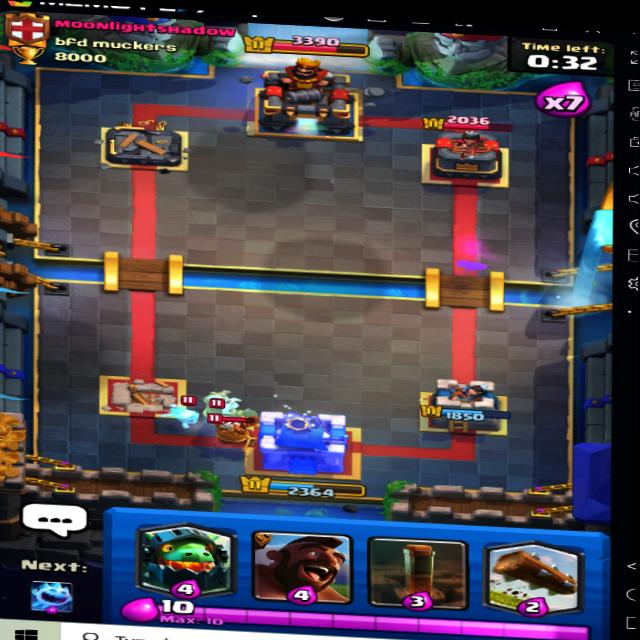Monk: (196, 408, 278, 451)
